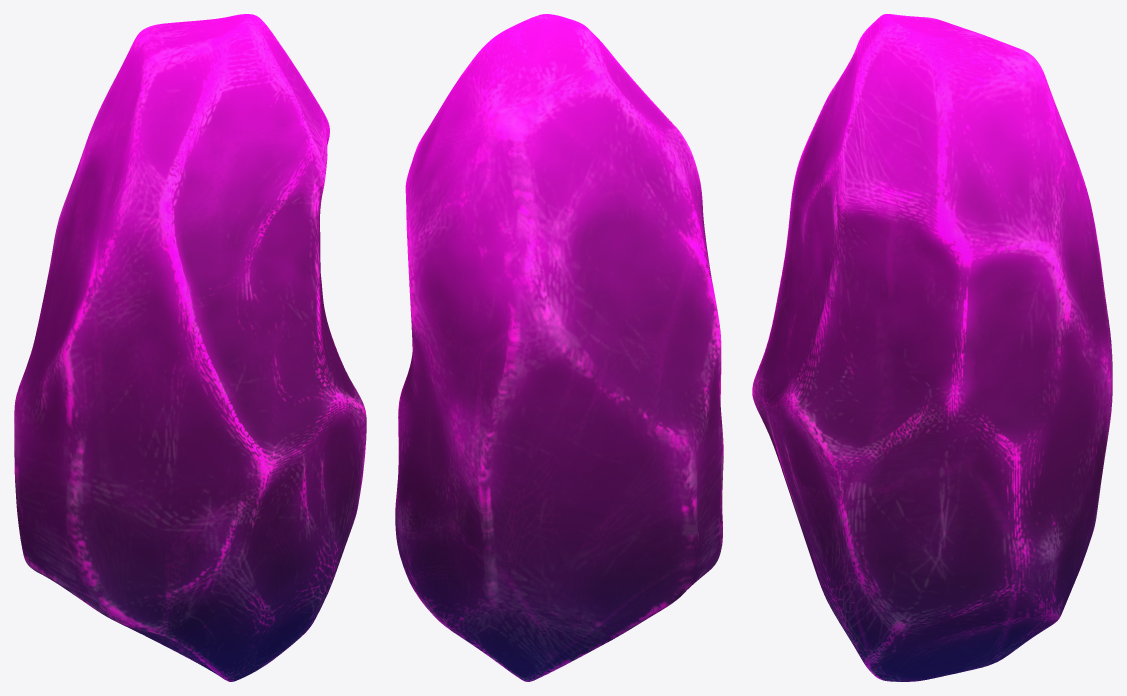
Rendered from stylized_crystal.glb.
3 views of the same model, side by side, from view 1: azimuth 30°, elevation 25°; view 2: azimuth 150°, elevation 25°; view 3: azimuth 270°, elevation 25° (orthographic). The views are drawn at different scales.
Parts seen in each view (by area): view 1: Capsule_64; view 2: Capsule_64; view 3: Capsule_64.
Part boxes in pixels (x1,y1,x2,y2): Capsule_64: (14, 14, 366, 681); Capsule_64: (395, 14, 723, 681); Capsule_64: (752, 14, 1112, 681).
Size of the model in its own units: 0.9632 by 2 by 0.9858.
Materials: 1 (1 with a texture image).
